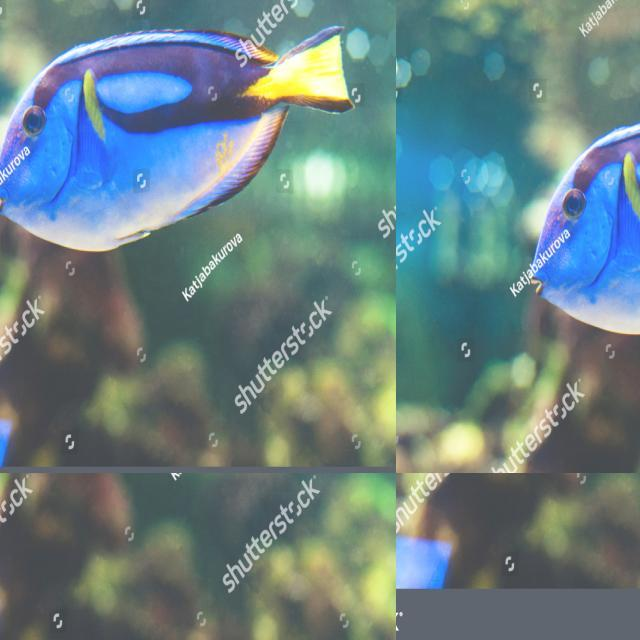BlueTang: (0, 0, 350, 255), (529, 121, 640, 332)
